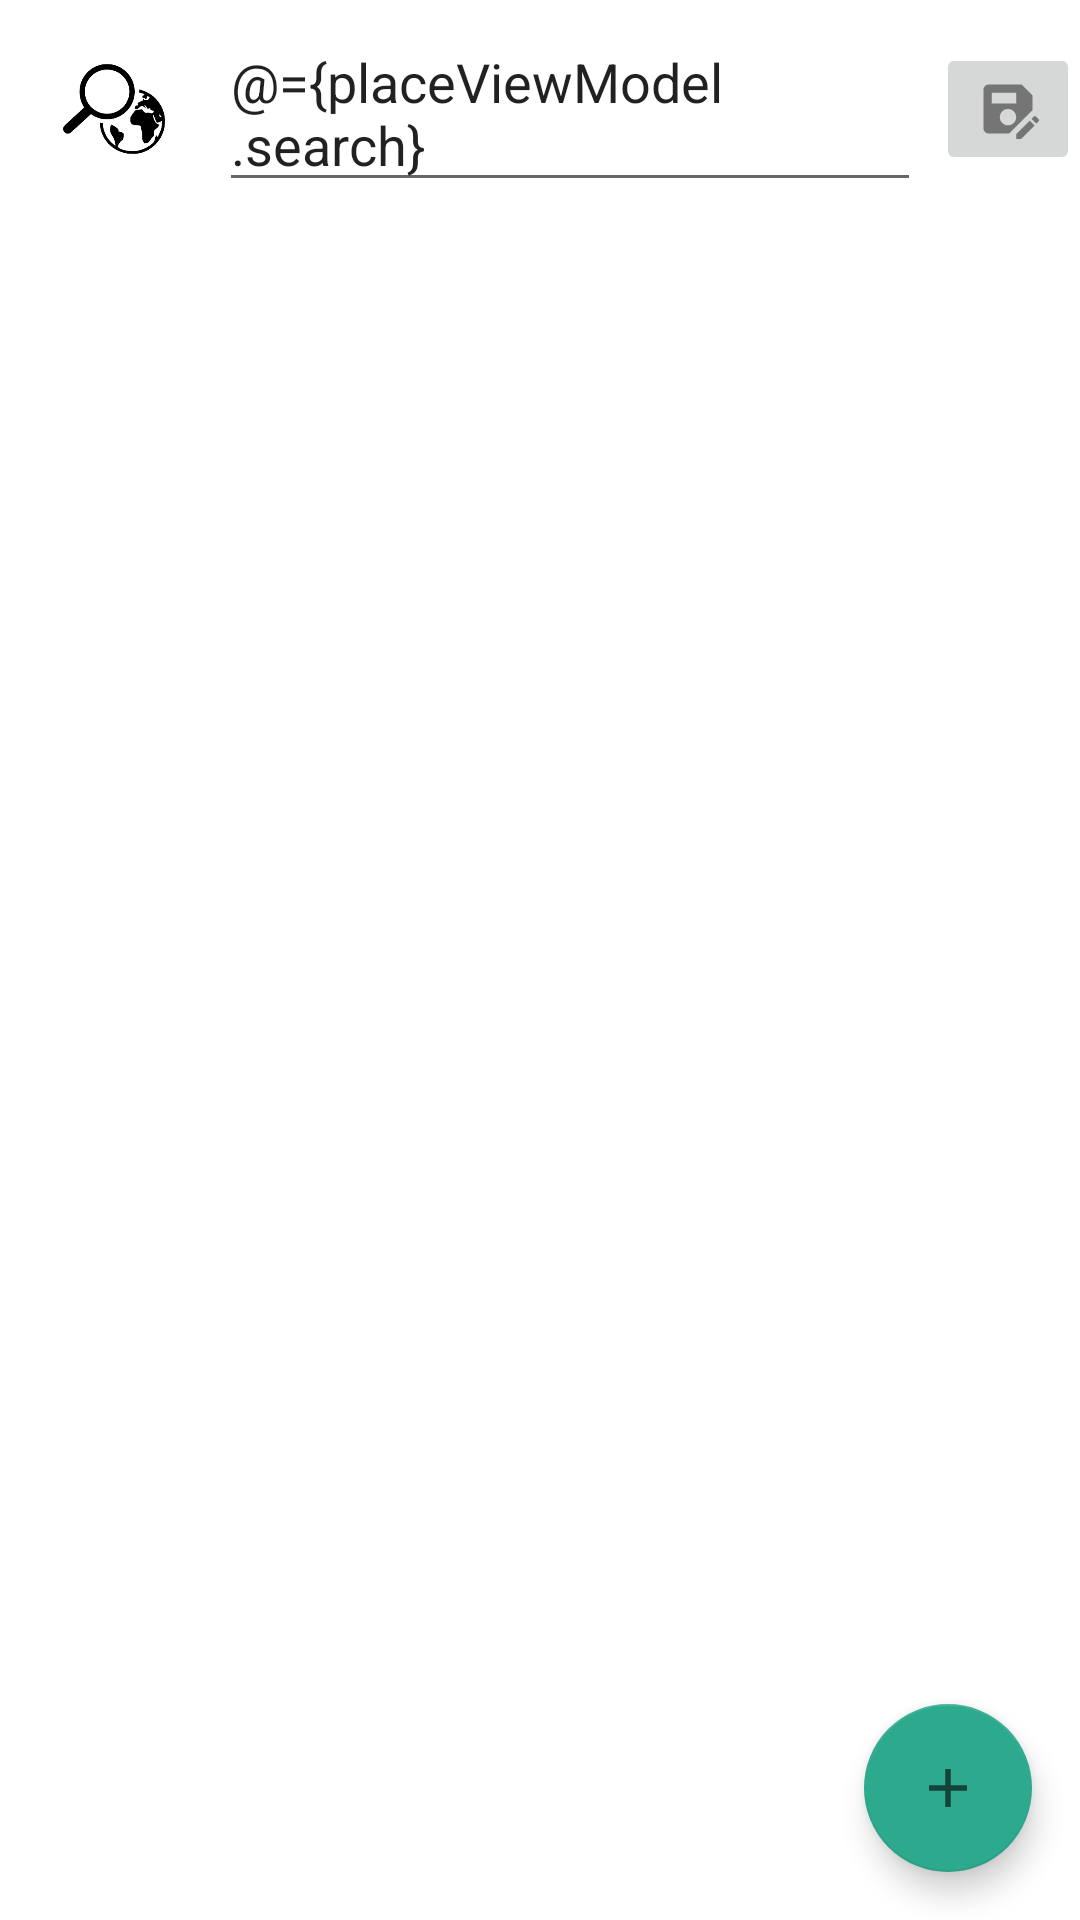

Icon bounding boxes for this 1080×1920 phone screenshot, format (x1, y1, x2, y2):
Add a place: (864, 1704, 1032, 1872)
save: (948, 61, 1068, 157)
Search bar icon: (63, 64, 165, 154)
